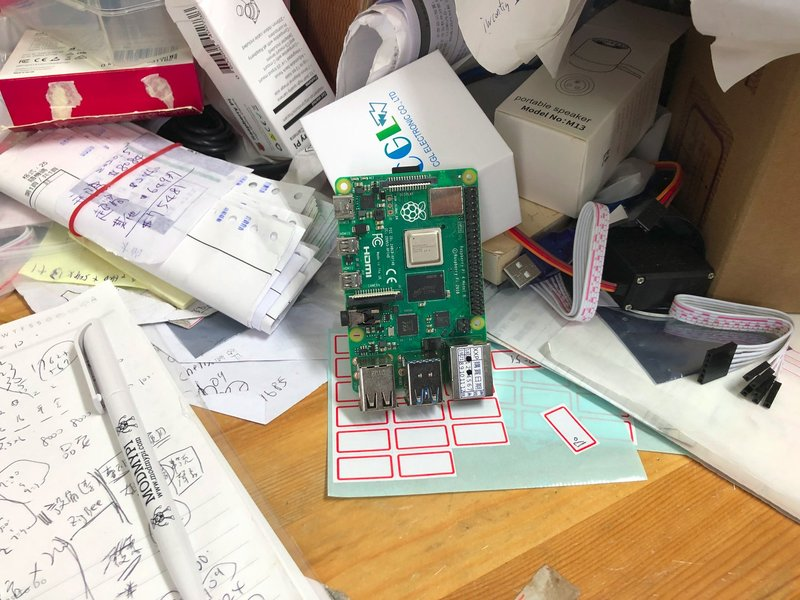pi: (326, 164, 497, 415)
